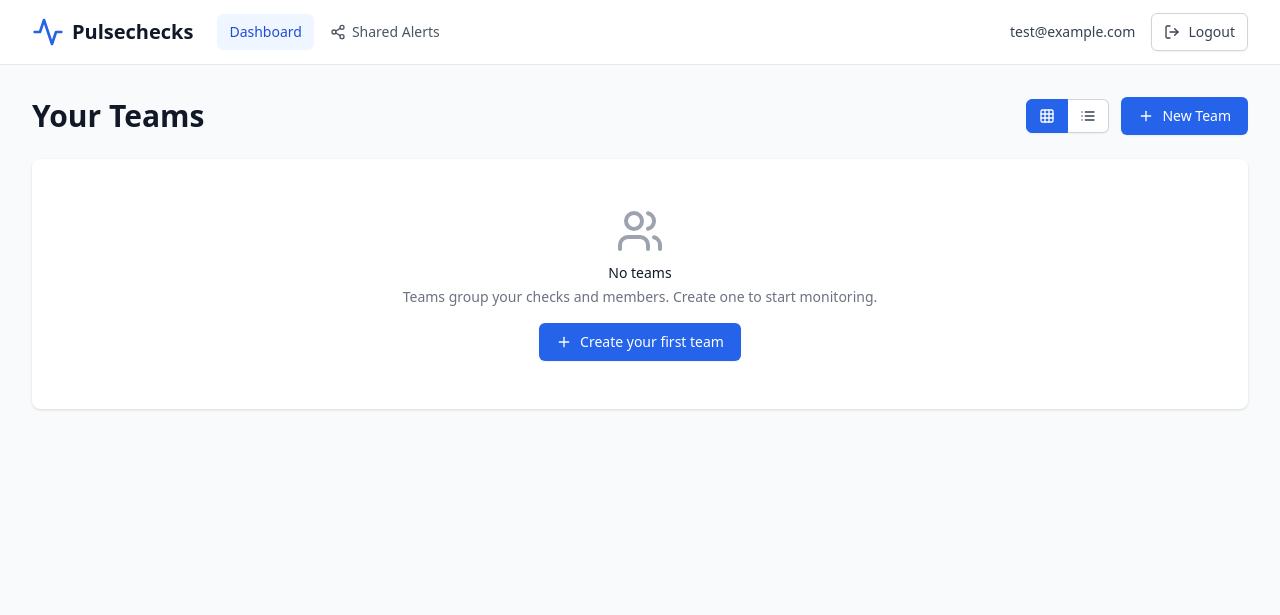
Test: DashboardPage › opens create team form when New Team button clicked
This screenshot has width=1280, height=615.
Step 1. Click the button "New Team" → (1185, 116), box [1122,97,1248,135]
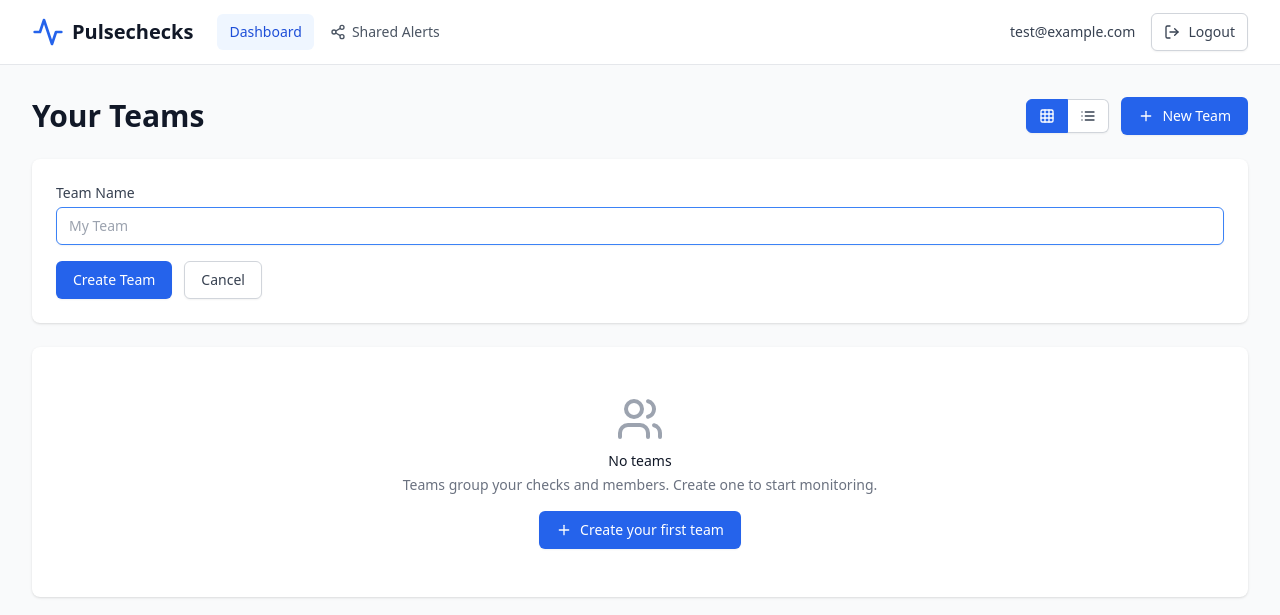
expect the button "Create Team" is shown: met, box [56,261,172,299]
expect the field labelled "Team Name" is shown: met, box [56,207,1224,245]
